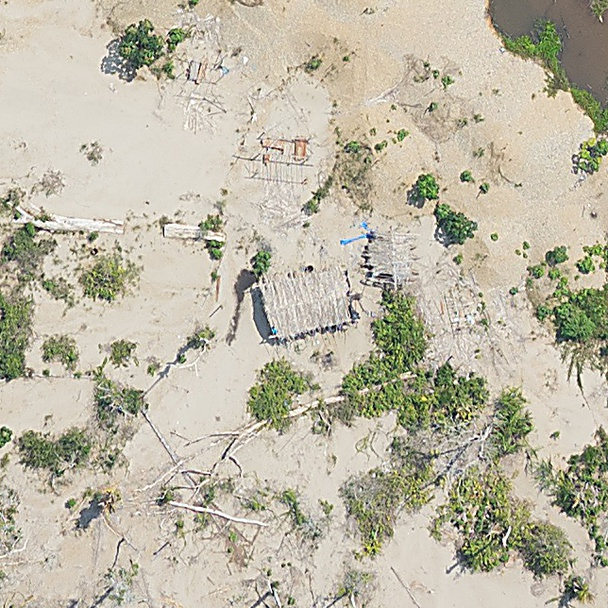casa: (254, 263, 357, 338), (362, 229, 418, 289)
